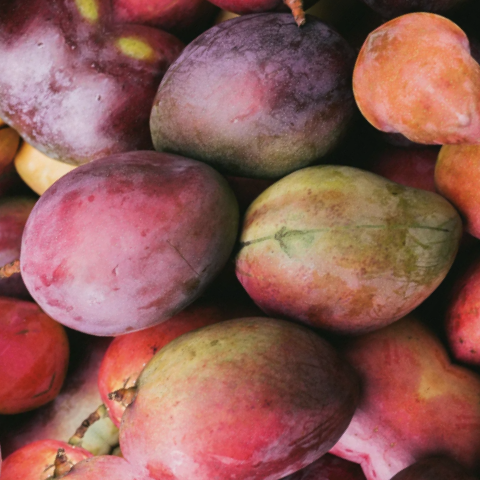mango: (185, 96, 480, 405), (0, 89, 272, 404), (73, 240, 407, 480), (110, 0, 403, 247)
